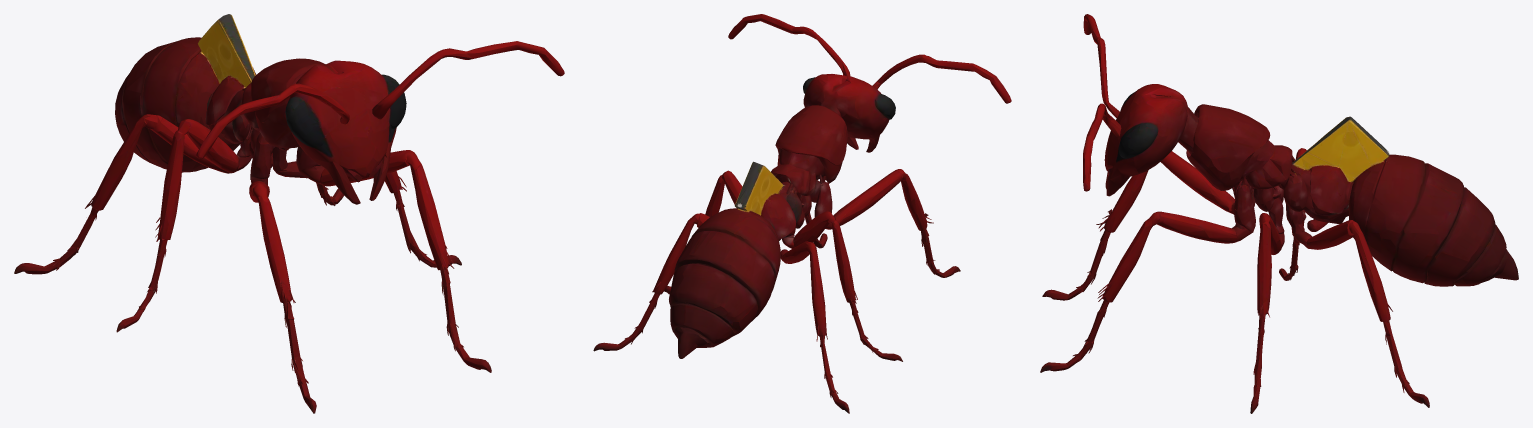
The model's file is fauna_soldier_ant.glb.
3 views of the same model, side by side, from view 1: azimuth 30°, elevation 25°; view 2: azimuth 150°, elevation 25°; view 3: azimuth 270°, elevation 25° (orthographic). The views are drawn at different scales.
Bounding box in the file's own units: 1.47 × 1.17 × 1.9.
1 material, 1 textured.
